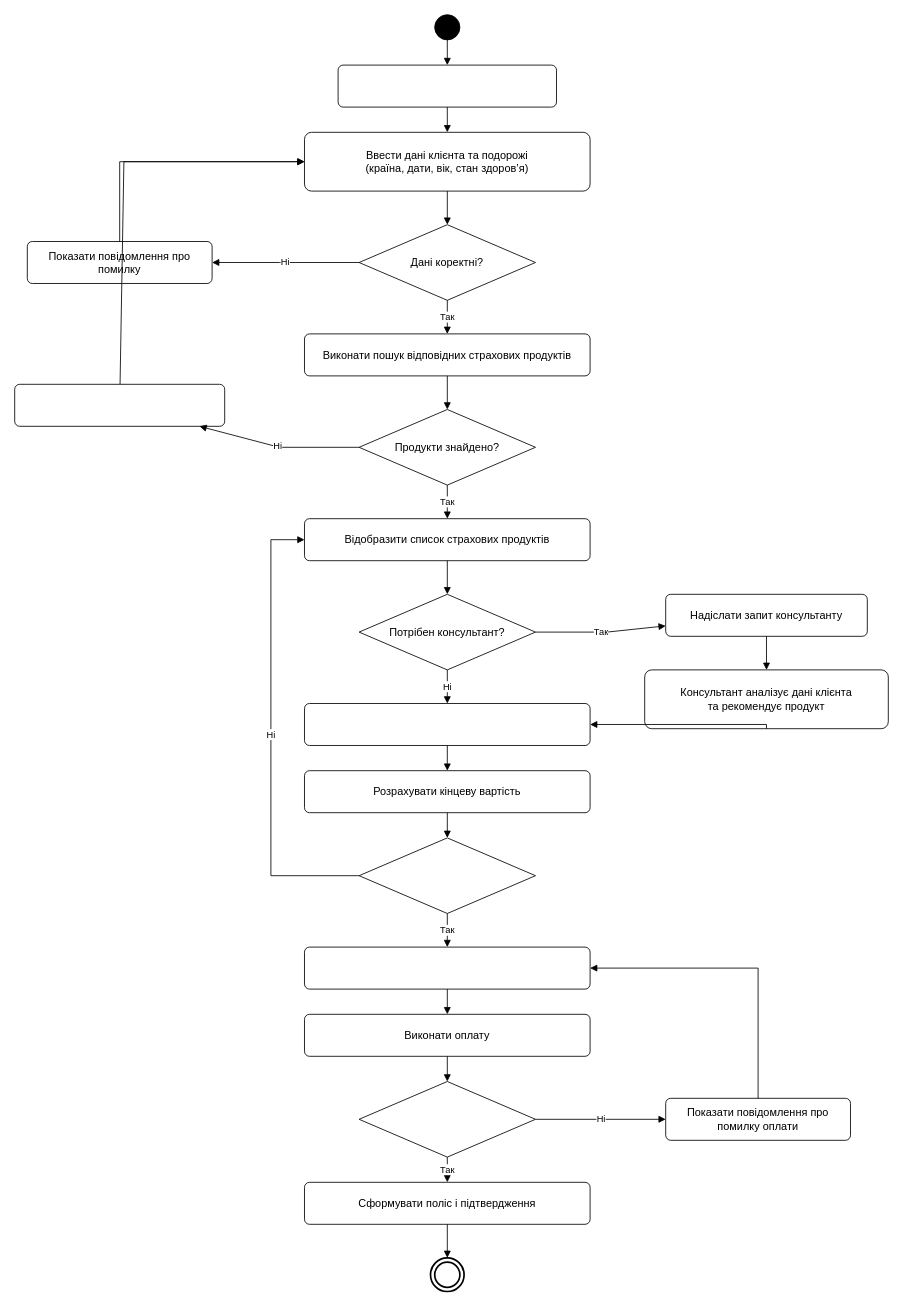
Some shapes in this 903 by 1307 pixel diagram are drawn without their labels. The shapes that lost their labels are listed below. From the top down, each one's box as (x1, y1, x2, y2) in pixels, then its label:
(337, 64, 556, 107): Відкрити сторінку пошуку страхування
(14, 383, 225, 426): Показати повідомлення: відповідних продуктів немає
(304, 703, 590, 746): Клієнт обирає страховий продукт
(358, 837, 536, 914): Підтвердити покупку?
(304, 946, 590, 989): Обрати спосіб оплати
(358, 1081, 536, 1157): Оплата успішна?
